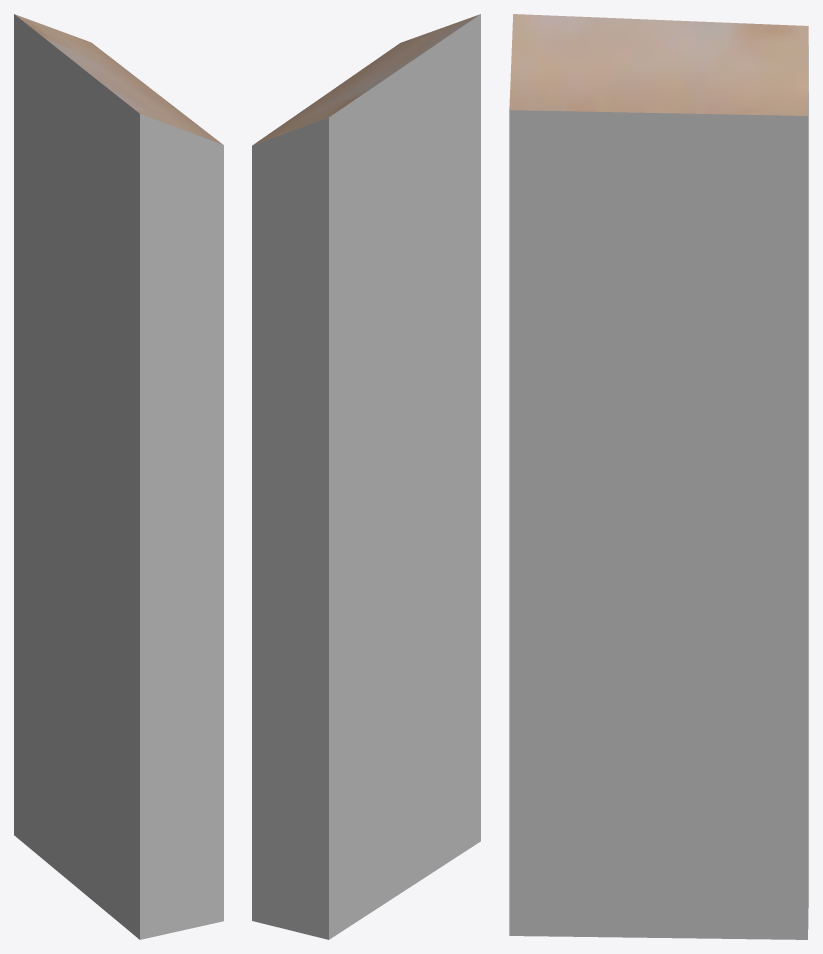
File: DEBW_0010007THXV.gltf
The picture shows the model from 3 angles, left to right: view 1: azimuth 30°, elevation 25°; view 2: azimuth 150°, elevation 25°; view 3: azimuth 270°, elevation 25°; orthographic projection. The views are drawn at different scales.
Parts seen in each view (by area): view 1: Z_UP; view 2: Z_UP; view 3: Z_UP.
Part boxes in pixels (x1,y1,x2,y2): Z_UP: (14, 14, 223, 939); Z_UP: (252, 14, 480, 939); Z_UP: (509, 14, 808, 939).
Bounding box in the file's own units: 1.74 × 15.27 × 4.71.
Materials: 2 (1 with a texture image).
